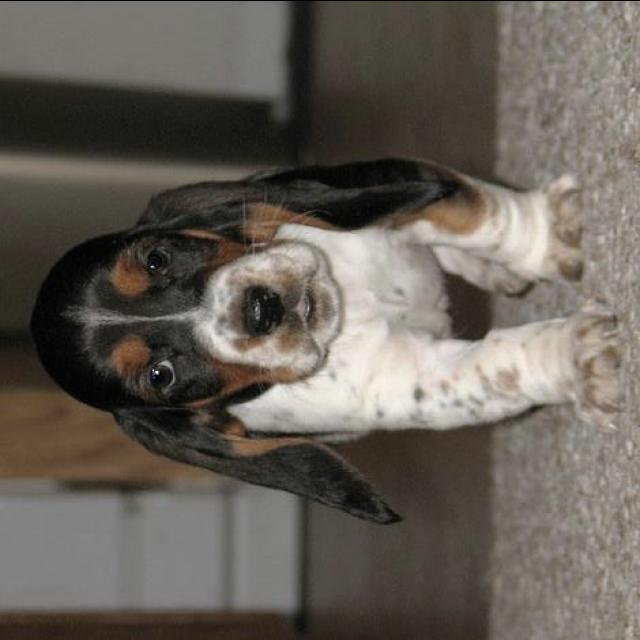basset: (30, 151, 630, 529)
